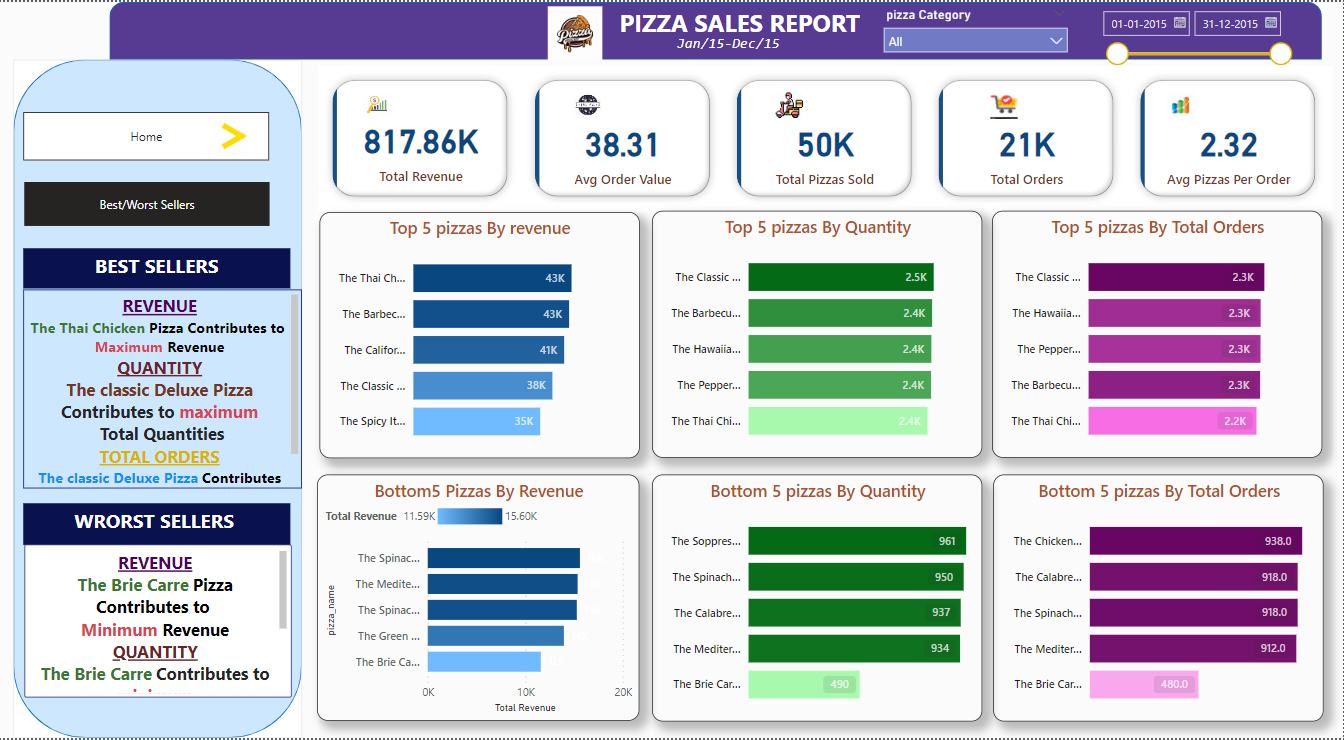

Layout of this report page (visuals, bound fields, positions):
{"tool":"powerbi","page":{"name":"Best/Worst Sellers","canvas":[1500,820],"ordinal":1},"visuals":[{"type":"shape","box":[17.7,64.3,321.6,755.8],"z":0},{"type":"cardVisual","fields":{"Data":["pizza_sales.Total Revenue","pizza_sales.Avg Order Value","pizza_sales.Total Pizzas Sold","pizza_sales.Total Orders","pizza_sales.Avg Pizzas Per Order"]},"box":[358.6,70.8,1130.5,162.4],"z":1000},{"type":"shape","box":[125.4,0,1350.8,64.3],"z":2000},{"type":"textbox","box":[651.3,0,358.6,45],"z":3000},{"type":"textbox","box":[715.6,32.2,197.8,38.6],"z":4000},{"type":"image","box":[601.4,0,85.2,70.8],"z":5000},{"type":"textbox","box":[28.9,275,297.5,45],"z":6000},{"type":"textbox","box":[28.9,320,310.4,221.9],"z":7000},{"type":"textbox","box":[28.9,558,297.5,46.6],"z":8000},{"type":"textbox","box":[30.6,604.6,297.5,170.5],"z":9000},{"type":"slicer","fields":{"Values":["pizza_sales.order_date"]},"box":[1220.5,0,231.6,82],"z":10000},{"type":"slicer","fields":{"Values":["pizza_sales.pizza_category"]},"box":[977.7,0,225.1,82],"z":11000},{"type":"barChart","title":"Top 5 pizzas By revenue","fields":{"Category":["pizza_sales.pizza_name"],"Y":["pizza_sales.Total Revenue"]},"box":[359.2,233.9,356.4,274.3],"z":12000},{"type":"barChart","title":"Bottom5 Pizzas By Revenue","fields":{"Category":["pizza_sales.pizza_name"],"Y":["pizza_sales.Total Revenue"]},"box":[356.4,526.2,359.2,274.3],"z":13000},{"type":"barChart","title":"Top 5 pizzas By Quantity","fields":{"Category":["pizza_sales.pizza_name"],"Y":["Sum(pizza_sales.quantity)"]},"box":[730.1,233.2,368.2,275],"z":14000},{"type":"barChart","title":"Bottom 5 pizzas By Quantity","fields":{"Category":["pizza_sales.pizza_name"],"Y":["Sum(pizza_sales.quantity)"]},"box":[730.1,525.8,368.2,275],"z":15000},{"type":"barChart","title":"Top 5 pizzas By Total Orders","fields":{"Category":["pizza_sales.pizza_name"],"Y":["pizza_sales.Total Orders"]},"box":[1108,233.2,368.2,275],"z":16000},{"type":"barChart","title":"Bottom 5 pizzas By Total Orders","fields":{"Category":["pizza_sales.pizza_name"],"Y":["pizza_sales.Total Orders"]},"box":[1109.6,525.8,368.2,275],"z":17000},{"type":"pageNavigator","box":[28.9,122.2,275,54.7],"z":18000},{"type":"pageNavigator","box":[30.6,201,273.4,49.9],"z":19000},{"type":"image","box":[217.1,125.4,86.8,48.2],"z":20000}]}

Visuals, with their boxes in screenshot pixels (x1, y1, x2, y2), scaled from the page's 1500x820 canvas onto the 1344x740 screenshot:
shape: bbox=(16, 58, 304, 739)
cardVisual - pizza_sales.Total Revenue x pizza_sales.Avg Order Value: bbox=(321, 64, 1334, 210)
shape: bbox=(112, 0, 1323, 58)
textbox: bbox=(584, 0, 905, 41)
textbox: bbox=(641, 29, 818, 64)
image: bbox=(539, 0, 615, 64)
textbox: bbox=(26, 248, 292, 289)
textbox: bbox=(26, 289, 304, 489)
textbox: bbox=(26, 504, 292, 546)
textbox: bbox=(27, 546, 294, 699)
slicer - pizza_sales.order_date: bbox=(1094, 0, 1301, 74)
slicer - pizza_sales.pizza_category: bbox=(876, 0, 1078, 74)
"Top 5 pizzas By revenue" barChart: bbox=(322, 211, 641, 459)
"Bottom5 Pizzas By Revenue" barChart: bbox=(319, 475, 641, 722)
"Top 5 pizzas By Quantity" barChart: bbox=(654, 210, 984, 459)
"Bottom 5 pizzas By Quantity" barChart: bbox=(654, 475, 984, 723)
"Top 5 pizzas By Total Orders" barChart: bbox=(993, 210, 1323, 459)
"Bottom 5 pizzas By Total Orders" barChart: bbox=(994, 475, 1324, 723)
pageNavigator: bbox=(26, 110, 272, 160)
pageNavigator: bbox=(27, 181, 272, 226)
image: bbox=(195, 113, 272, 157)
